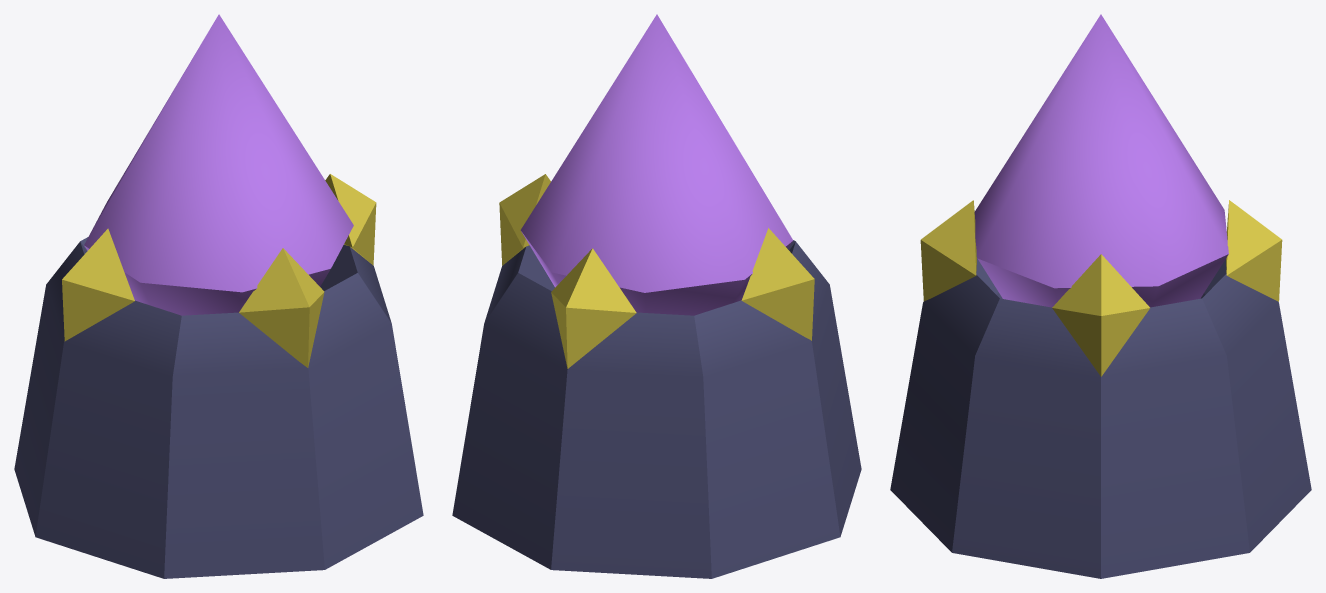
File: SnappingGenerator.fbx
3 renders of one model, left to right at view 1: azimuth 30°, elevation 25°; view 2: azimuth 150°, elevation 25°; view 3: azimuth 270°, elevation 25°, orthographic.
Parts seen in each view (by area): view 1: gen_base, gen_crystal; view 2: gen_base, gen_crystal; view 3: gen_base, gen_crystal.
Boxes of the visible parts, x1,y1,x2,y2 form: gen_base: (14, 174, 423, 578); gen_crystal: (84, 14, 353, 315); gen_base: (452, 174, 861, 578); gen_crystal: (520, 14, 793, 315); gen_base: (890, 200, 1311, 578); gen_crystal: (974, 14, 1228, 307).
Size of the model in its own units: 2.29 by 2.85 by 2.29.
